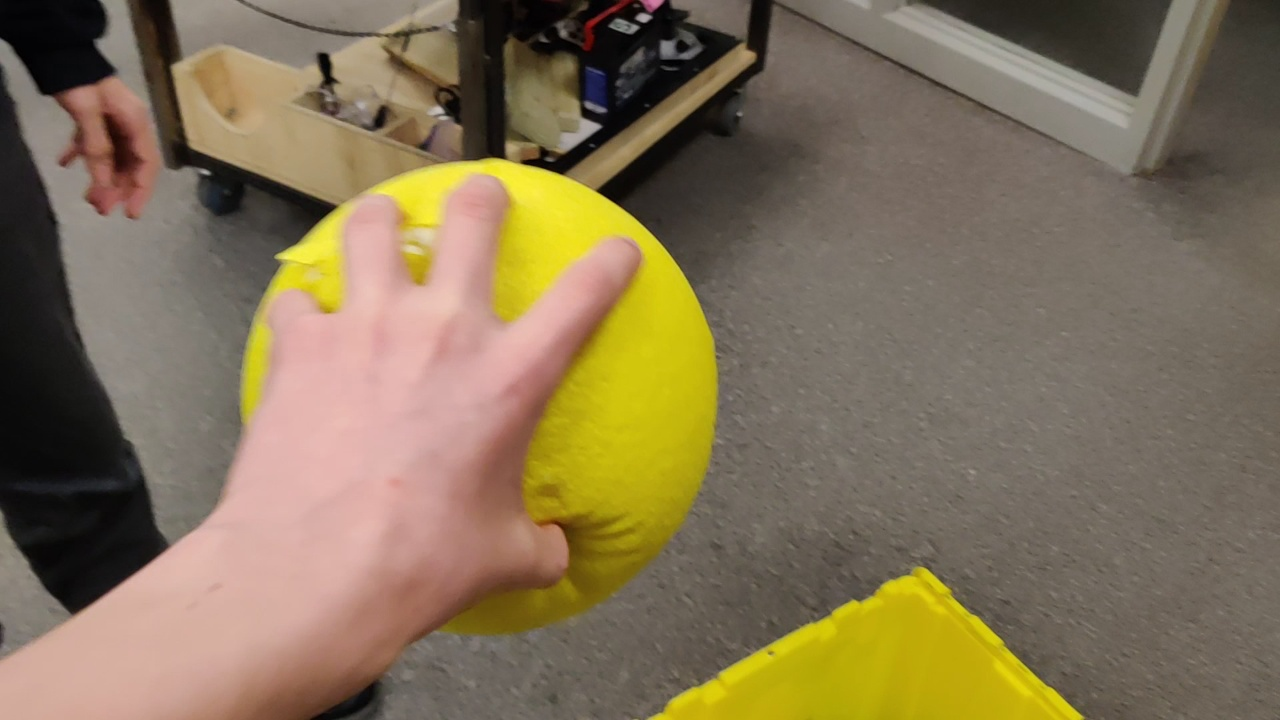Ball: (530, 275, 717, 557)
